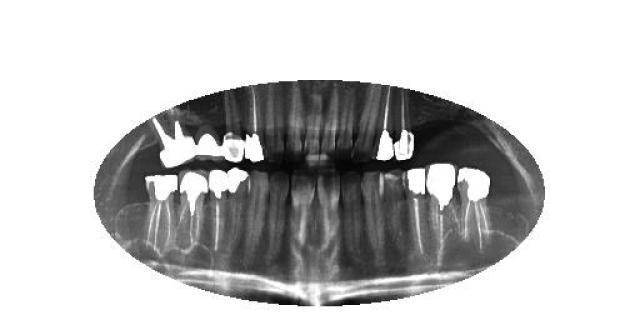Fillings: (225, 167, 249, 235), (221, 92, 244, 160), (196, 124, 224, 164)
Implant: (455, 166, 495, 252), (425, 162, 455, 264), (142, 174, 178, 255), (152, 108, 198, 170), (178, 170, 208, 250), (404, 166, 428, 256), (375, 85, 400, 164), (244, 85, 265, 163), (208, 171, 226, 251), (396, 95, 416, 163)
